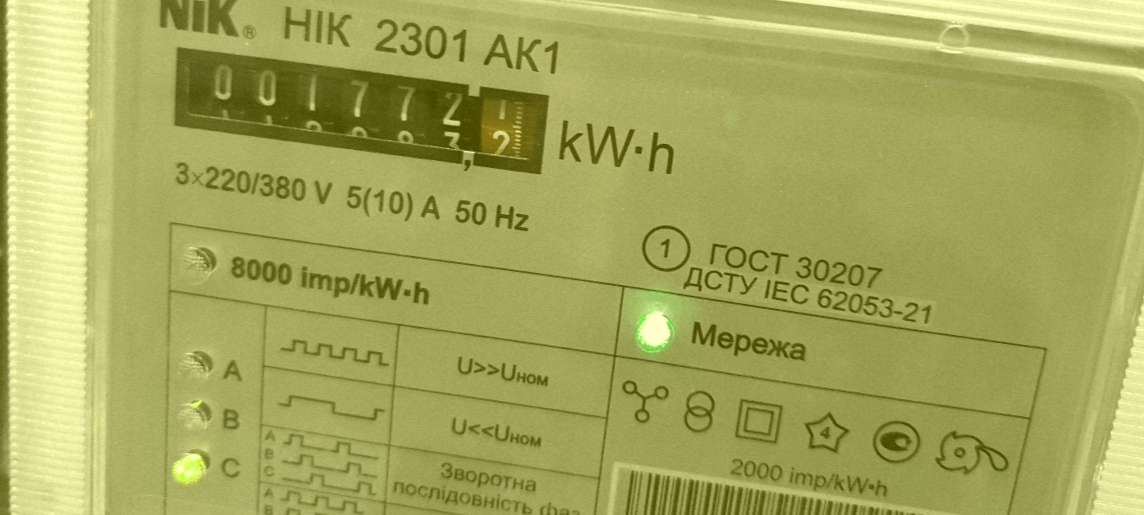0: (204, 59, 237, 103), (252, 66, 280, 108)
1: (300, 72, 322, 112), (492, 97, 509, 124)
2: (437, 90, 465, 129), (484, 126, 511, 157)
3: (438, 128, 463, 152)
7: (342, 77, 370, 120), (388, 83, 415, 124)
screen: (151, 26, 570, 195)
